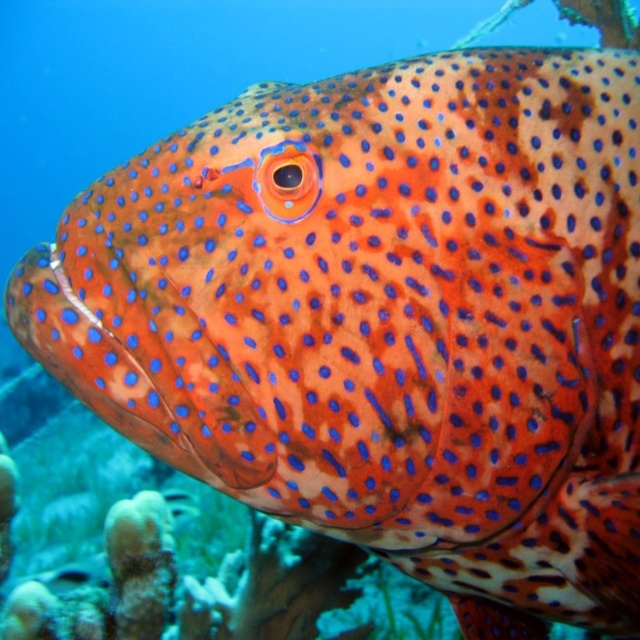Fish: (8, 51, 639, 639)
